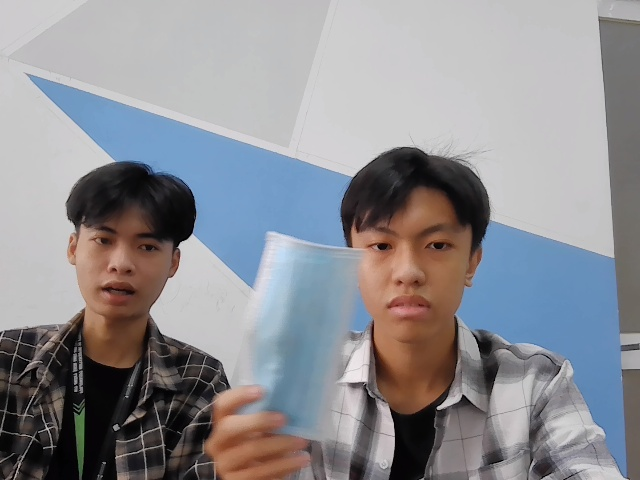human: (342, 144, 487, 343), (62, 163, 192, 328)
mask: (227, 229, 362, 444)
